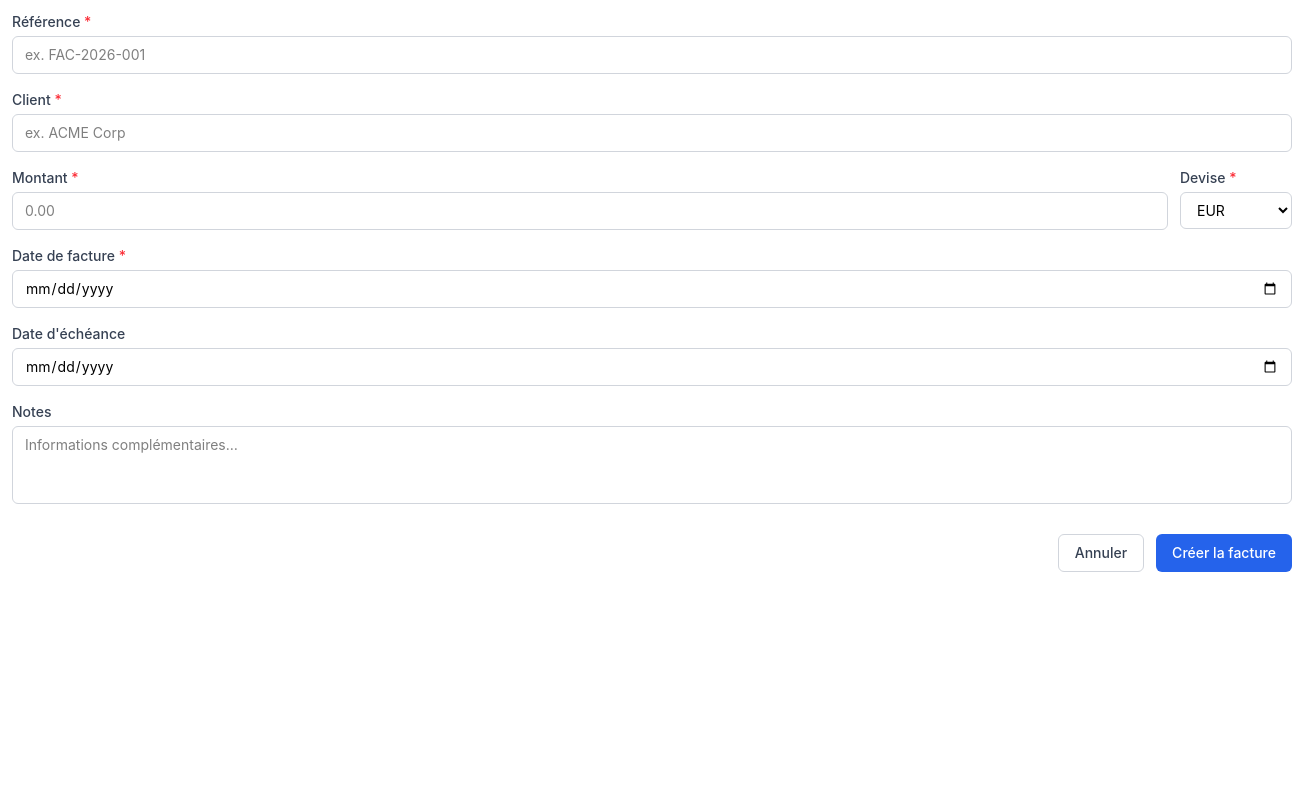
Test case: InvoiceForm › validate() — required fields › shows amount > 0 error when amount is negative
Step 1. Type "FAC-X" into the field with id "inv-reference" → (652, 55), box [12,36,1292,74]
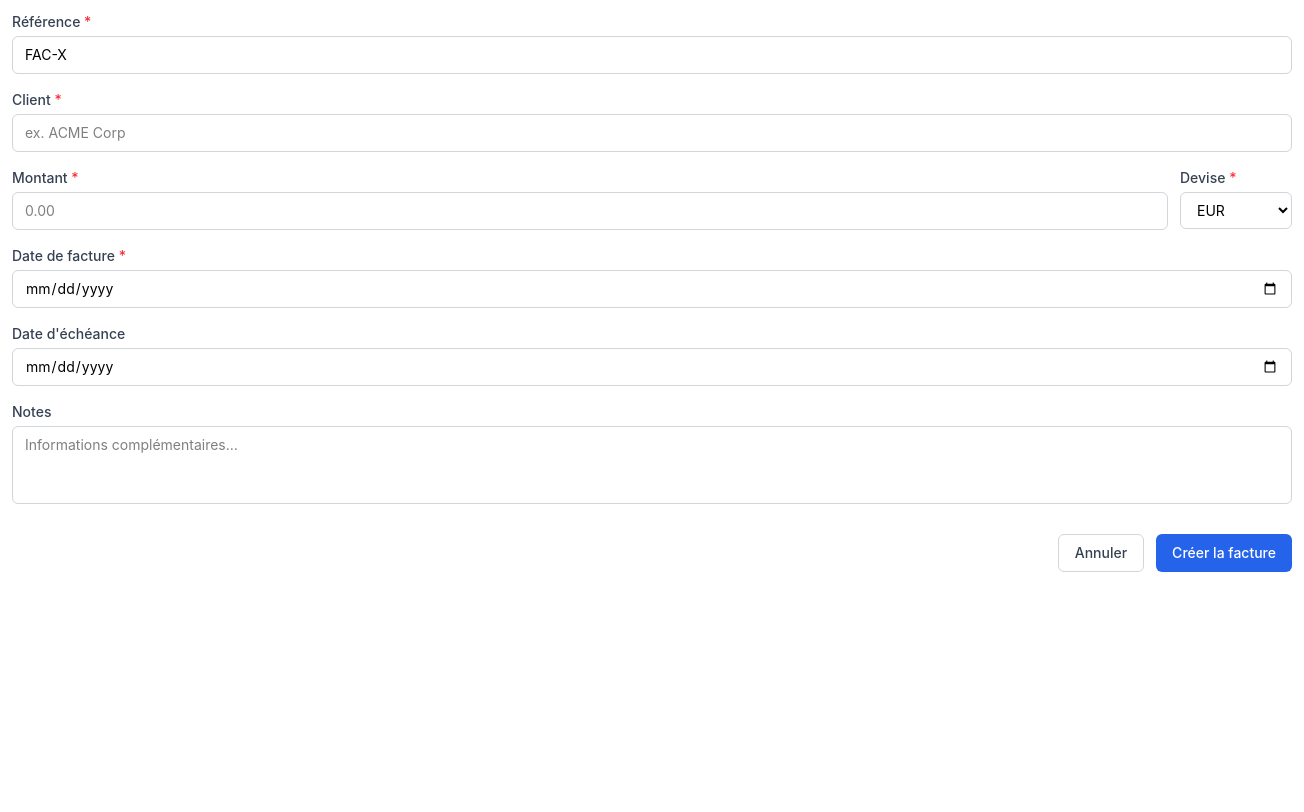
Step 2. Type "Test" into the field with id "inv-client" → (652, 133), box [12,114,1292,152]
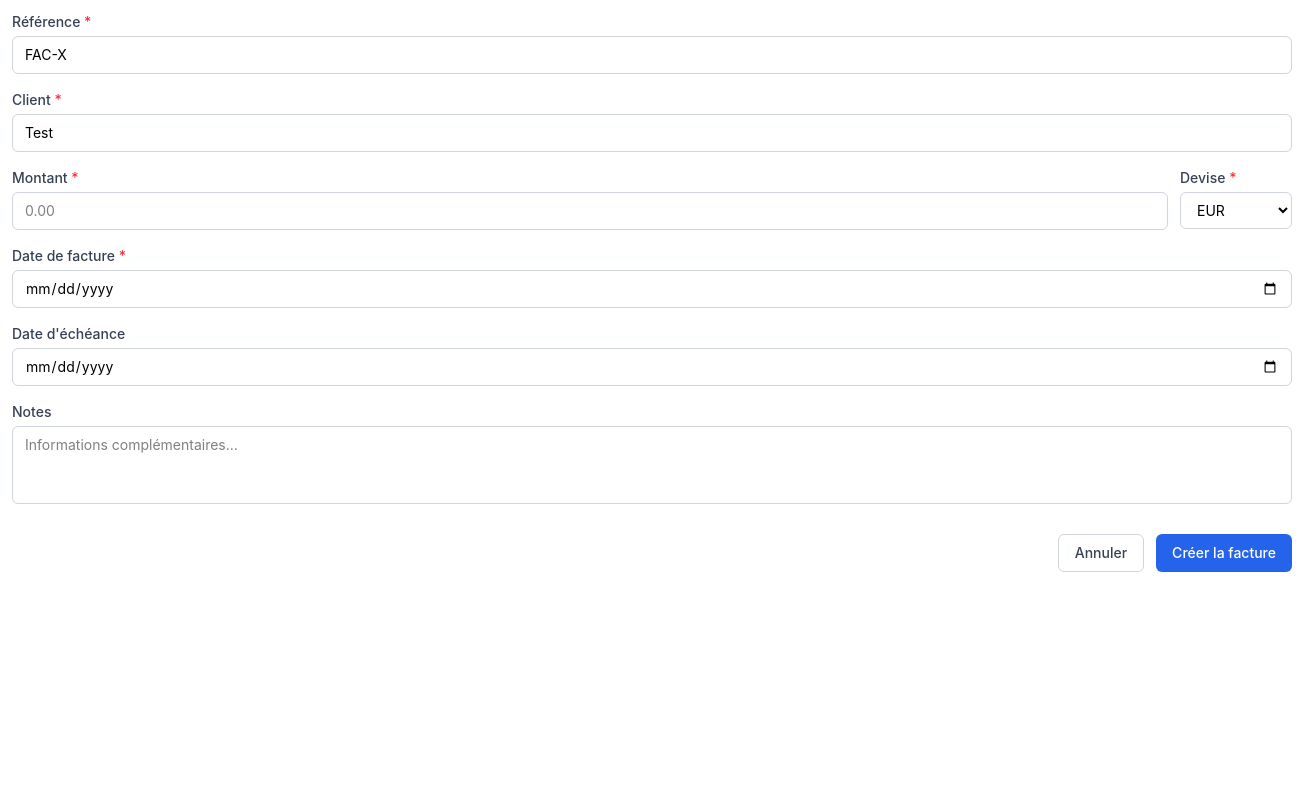
Step 3. Type "-50" into the number field with id "inv-amount" → (590, 211), box [12,192,1168,230]
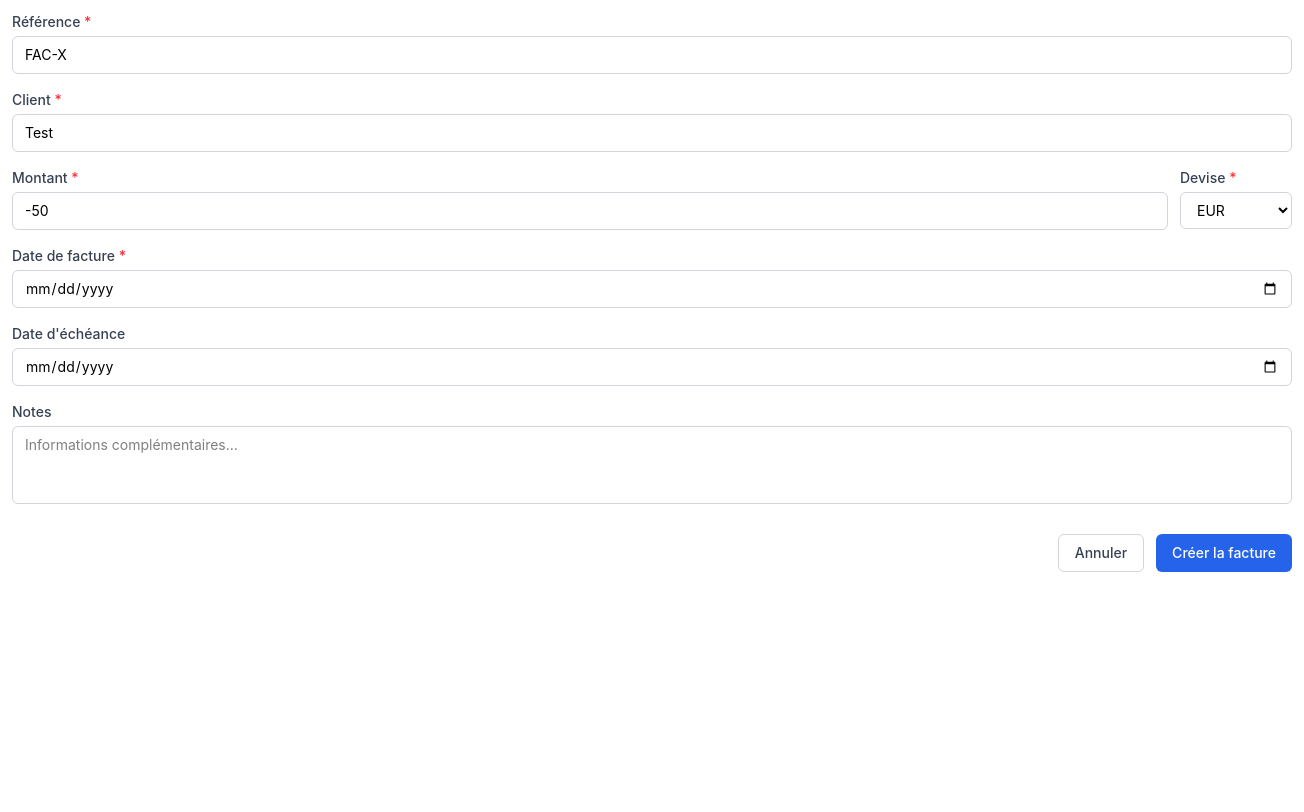
Step 4. Submit the form
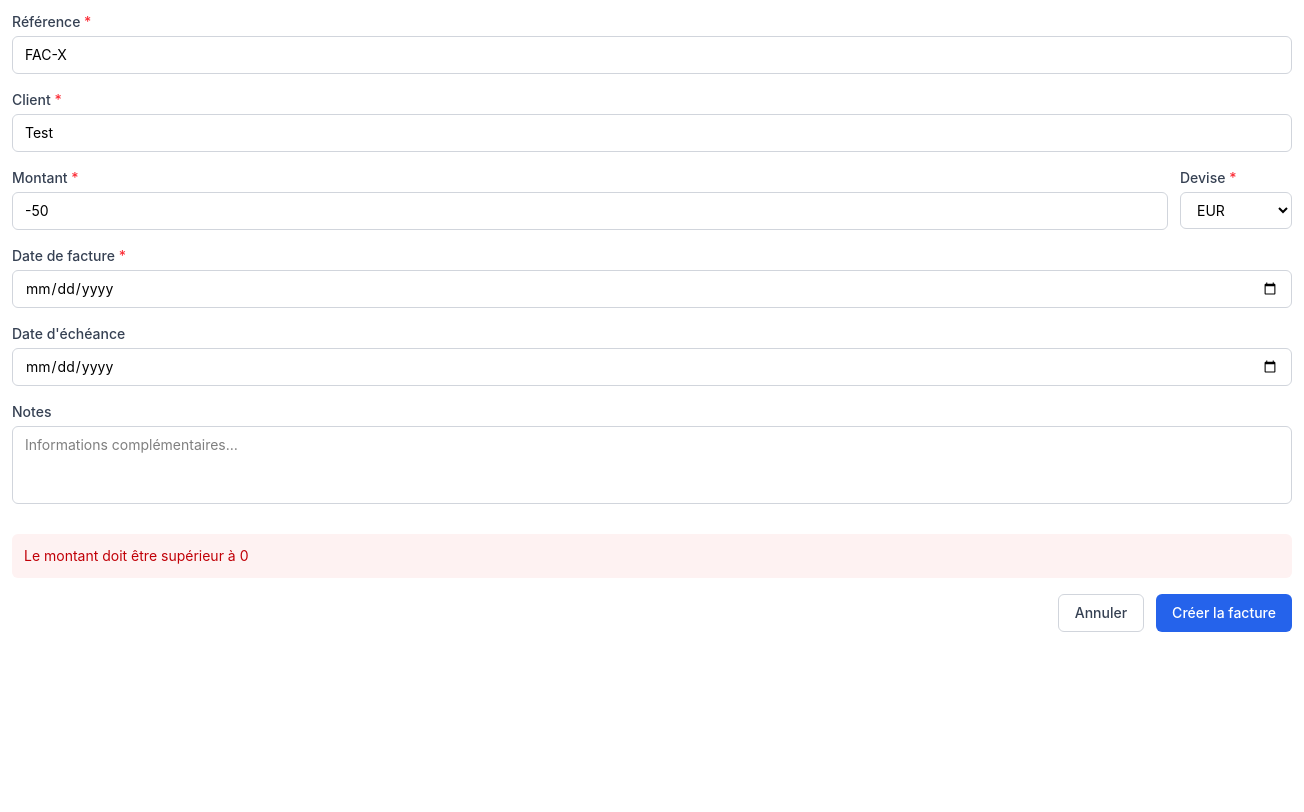
Expected: the form shows "supérieur à 0", [24,547,248,564]
